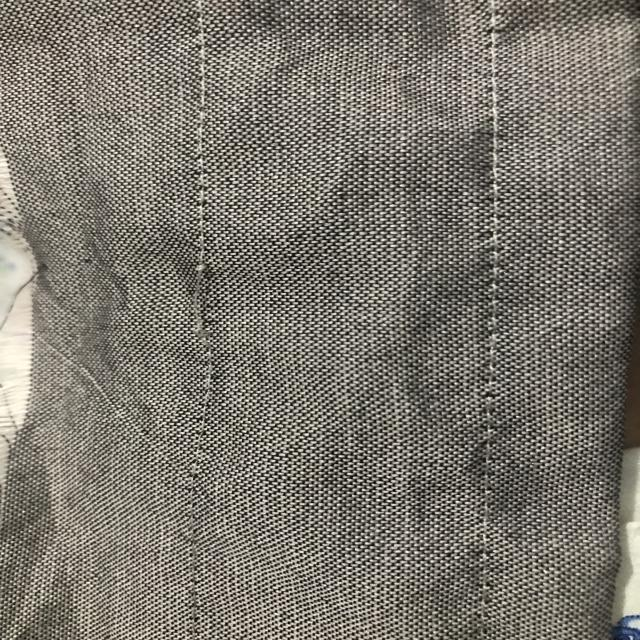good: (173, 112, 222, 227)
skip: (180, 244, 236, 356)
